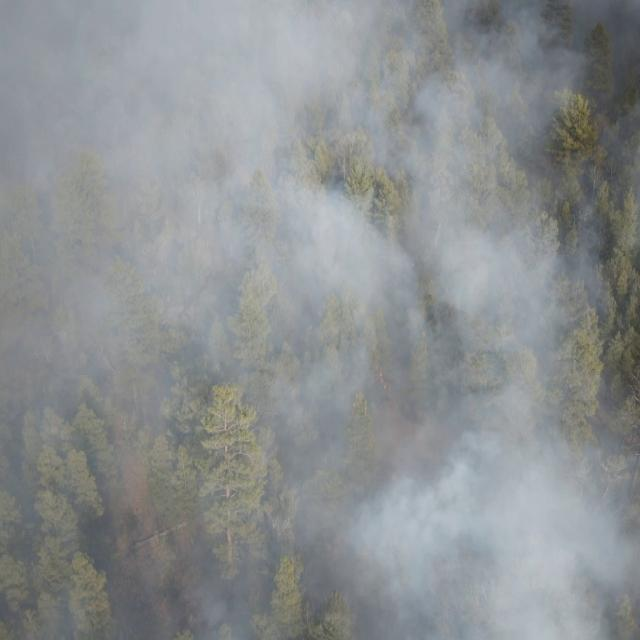fire: (373, 363, 392, 401)
smoke: (1, 0, 640, 640)
